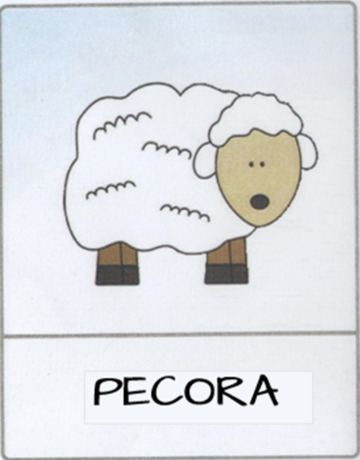pecora: (11, 35, 356, 431)
